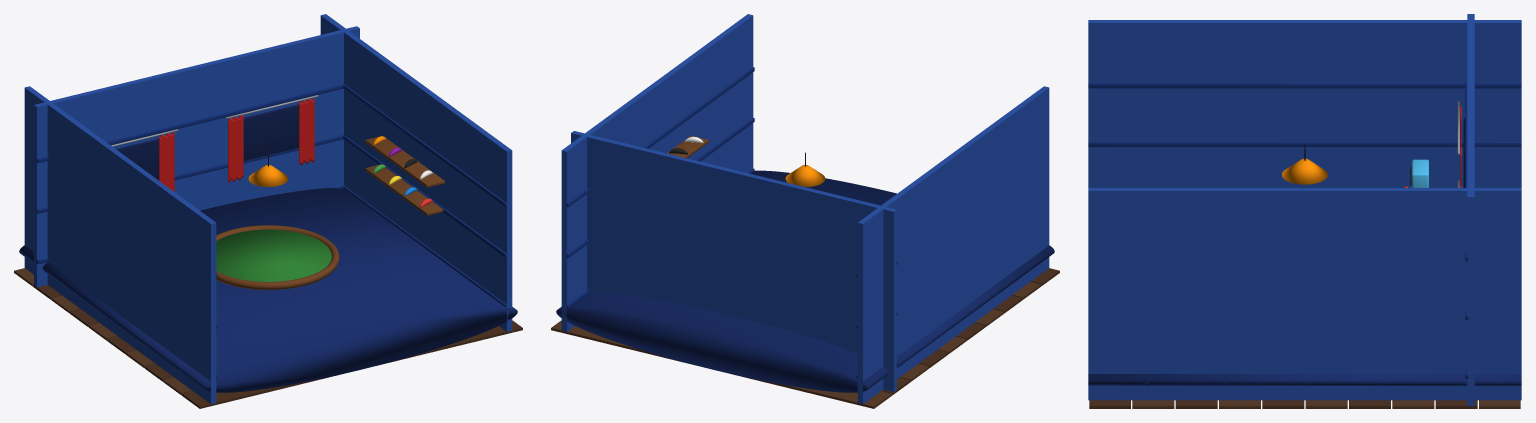
The model's file is sala_van.glb.
3 views of the same model, side by side, from view 1: azimuth 30°, elevation 25°; view 2: azimuth 150°, elevation 25°; view 3: azimuth 270°, elevation 25° (orthographic). The views are drawn at different scales.
Visible parts, largest first — view 1: teto, parede_-1, parede_fundo, parede_1, feltro, moldura_1.3, borda, tabua0, friso_fundo_2, prateleira2, prateleira, cortina_1.3_1 (+8 smaller); view 2: parede_fundo, parede_-1, teto, parede_1, tabua9, friso_1_2, luminaria, friso_1_1; view 3: parede_1, parede_-1, teto, parede_fundo, friso_-1_2, friso_-1_1, luminaria, radio.
Boxes of the visible parts, left/top/right/bottom form: teto: left=19, top=187, right=517, bottom=392; parede_-1: left=24, top=86, right=216, bottom=404; parede_fundo: left=34, top=26, right=359, bottom=287; parede_1: left=320, top=14, right=512, bottom=331; feltro: left=216, top=229, right=331, bottom=281; moldura_1.3: left=243, top=104, right=298, bottom=160; borda: left=216, top=225, right=339, bottom=289; tabua0: left=182, top=320, right=522, bottom=408; friso_fundo_2: left=37, top=84, right=343, bottom=162; prateleira2: left=365, top=135, right=444, bottom=187; prateleira: left=365, top=164, right=443, bottom=215; cortina_1.3_1: left=299, top=98, right=314, bottom=165; parede_fundo: left=571, top=131, right=896, bottom=391; parede_-1: left=857, top=86, right=1049, bottom=404; teto: left=556, top=170, right=1054, bottom=392; parede_1: left=561, top=14, right=753, bottom=331; tabua9: left=551, top=320, right=891, bottom=408; friso_1_2: left=565, top=67, right=754, bottom=207; luminaria: left=785, top=165, right=825, bottom=186; friso_1_1: left=566, top=117, right=754, bottom=257; parede_1: left=1088, top=188, right=1521, bottom=400; parede_-1: left=1088, top=20, right=1521, bottom=187; teto: left=1088, top=374, right=1521, bottom=385; parede_fundo: left=1467, top=14, right=1474, bottom=406; friso_-1_2: left=1088, top=83, right=1521, bottom=88; friso_-1_1: left=1088, top=142, right=1521, bottom=146; luminaria: left=1282, top=158, right=1327, bottom=184; radio: left=1411, top=159, right=1428, bottom=187.
Size of the model in its own units: 6 by 3.24 by 6.
